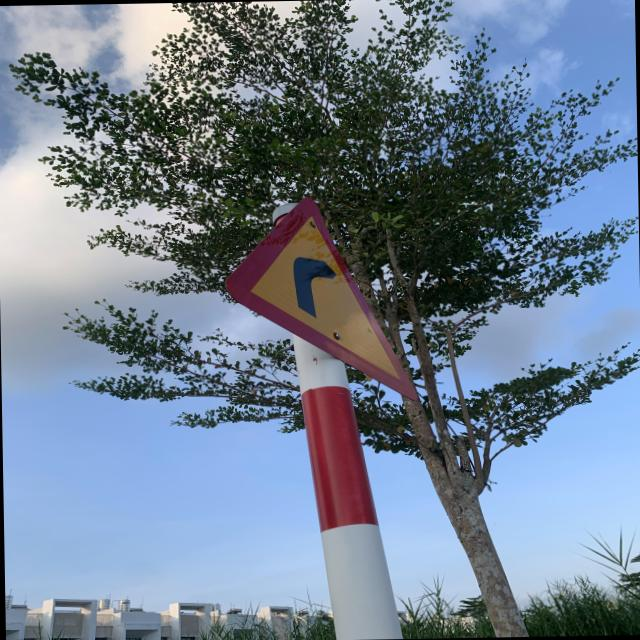Duong_Nguoi_Di_Bo_Cat_Ngang: (224, 190, 423, 408)
